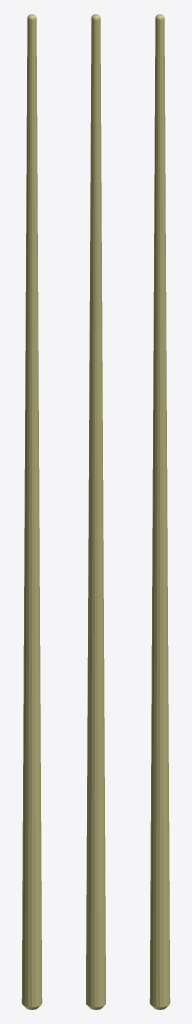
File: Stick.fbx
3 views of the same model, side by side, from view 1: azimuth 90°, elevation 25°; view 2: azimuth 150°, elevation 25°; view 3: azimuth 270°, elevation 25° (orthographic).
Parts seen in each view (by area): view 1: Cylinder; view 2: Cylinder; view 3: Cylinder.
Boxes of the visible parts, x1,y1,x2,y2 form: Cylinder: (21, 14, 42, 1009); Cylinder: (86, 14, 105, 1009); Cylinder: (149, 14, 170, 1009).
Size of the model in its own units: 55.34 by 2974 by 55.34.
